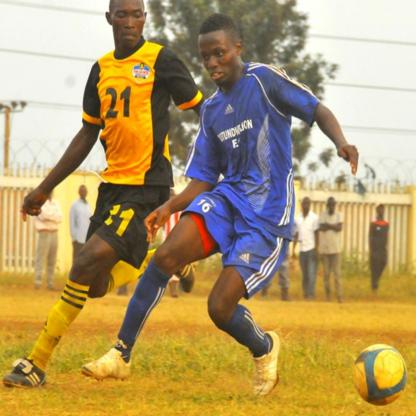face: (198, 32, 235, 89), (112, 6, 145, 47)
